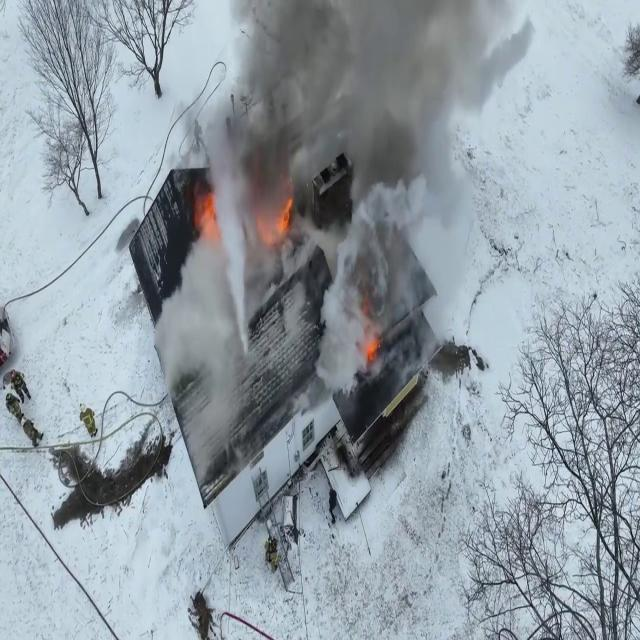Smoke: (157, 0, 513, 360)
